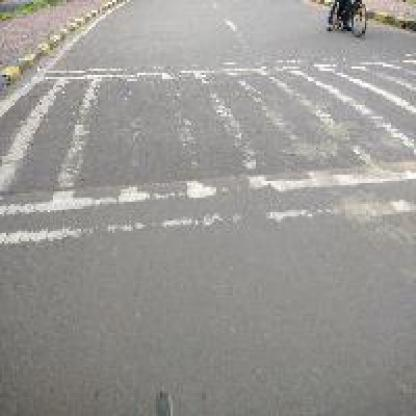Speed Bump: (4, 54, 410, 243)
